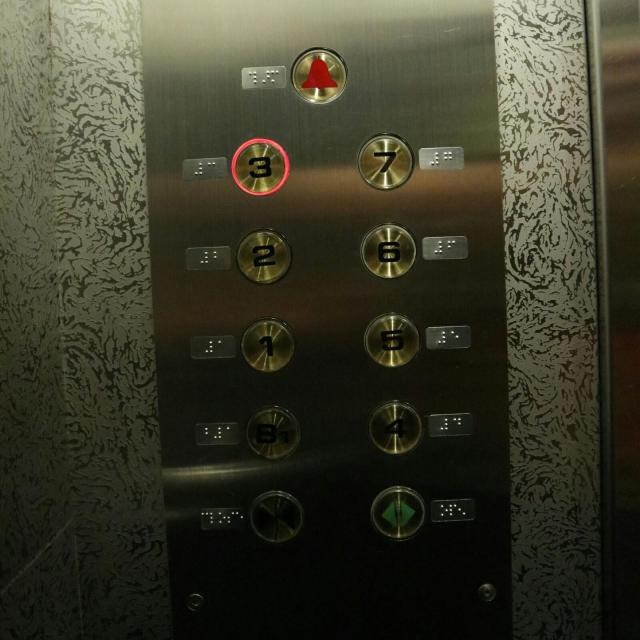1: (237, 314, 299, 375)
2: (232, 225, 294, 288)
3: (229, 135, 291, 197)
4: (366, 397, 424, 458)
5: (361, 309, 422, 370)
6: (358, 219, 418, 280)
7: (355, 130, 415, 192)
B1: (242, 402, 303, 463)
alarm: (288, 44, 350, 106)
close: (248, 488, 305, 545)
open: (368, 484, 427, 543)
